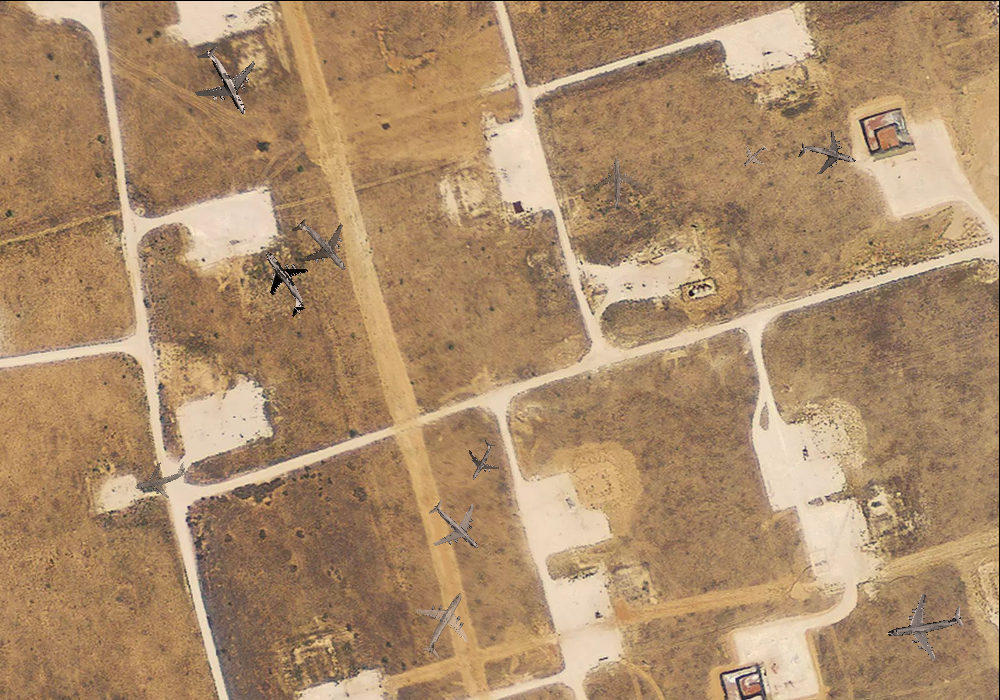plane: (175, 31, 274, 131), (398, 577, 491, 671), (275, 199, 367, 291), (239, 237, 328, 328), (881, 582, 970, 668), (414, 485, 497, 568), (792, 120, 863, 188), (128, 449, 191, 507), (454, 433, 509, 488), (590, 156, 642, 210), (734, 135, 776, 176)
